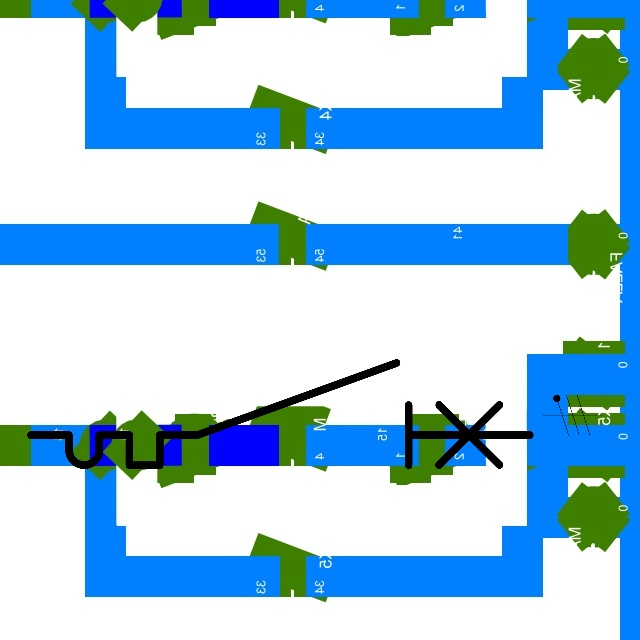interruptor_termomagnetico: (18, 350, 543, 478)
